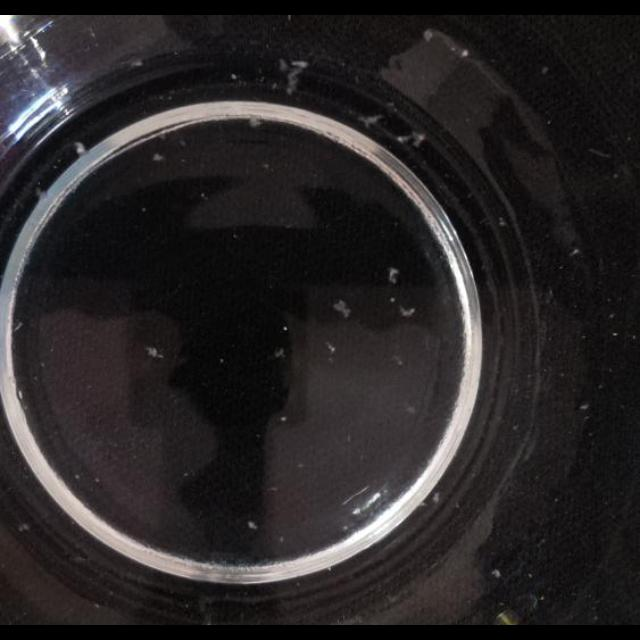Fibre: (276, 57, 308, 93), (358, 112, 384, 130), (396, 131, 418, 147), (332, 300, 351, 318), (146, 346, 164, 360), (399, 304, 416, 318), (388, 268, 400, 284), (248, 116, 262, 128), (74, 141, 86, 155), (292, 59, 308, 69)
microbeads: (278, 58, 290, 72), (392, 354, 404, 366), (324, 341, 336, 353), (152, 152, 166, 162), (130, 58, 144, 68), (431, 492, 441, 504), (18, 522, 30, 532), (246, 520, 258, 530), (177, 136, 187, 148), (274, 348, 284, 358), (491, 569, 501, 579), (460, 48, 470, 58), (498, 217, 507, 227), (406, 406, 416, 414), (571, 248, 581, 256), (578, 402, 588, 410), (261, 162, 271, 170), (541, 66, 549, 74), (230, 73, 238, 81), (183, 471, 191, 479), (342, 524, 350, 532), (268, 486, 278, 492), (17, 390, 23, 400), (297, 462, 305, 468), (279, 416, 287, 422), (610, 312, 616, 320), (200, 192, 208, 198), (74, 473, 80, 481), (612, 332, 618, 338), (219, 358, 225, 364)
